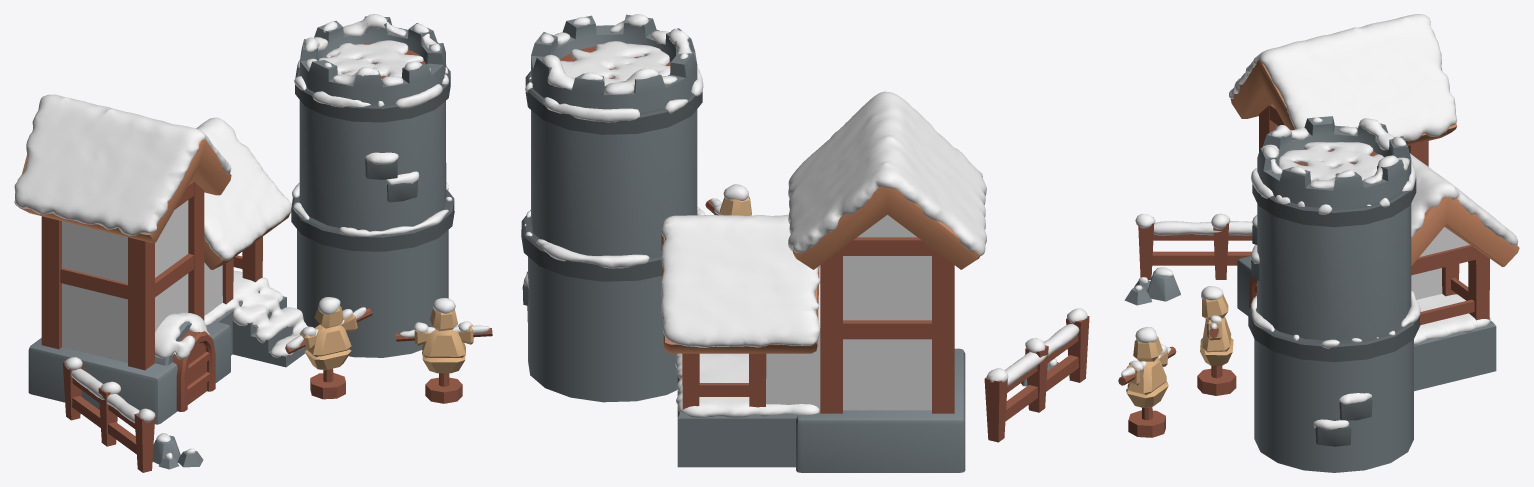
Rendered from barracks.fbx.
3 views of the same model, side by side, from view 1: azimuth 30°, elevation 25°; view 2: azimuth 150°, elevation 25°; view 3: azimuth 270°, elevation 25° (orthographic). The views are drawn at different scales.
Visible parts, largest first — view 1: barracks.026, SnowBall.012, barracks, SnowBall.013, barracks.006, SnowBall.026, barracks.002, SnowBall.011, barracks.005, barracks.001, SnowBall.010, barracks.032 (+24 smaller); view 2: barracks.026, SnowBall.013, SnowBall.012, barracks, barracks.006, barracks.009, barracks.005, SnowBall.011, SnowBall.026, barracks.001, barracks.004, barracks.010 (+14 smaller); view 3: barracks.026, SnowBall.012, barracks.009, SnowBall.011, barracks.014, SnowBall.010, barracks.032, SnowBall.013, barracks.005, SnowBall.026, barracks.010, barracks.011 (+21 smaller).
Part boxes in pixels (x1,y1,x2,y2): barracks.026: (291, 16, 454, 357); SnowBall.012: (14, 94, 231, 235); barracks: (62, 200, 188, 362); SnowBall.013: (196, 117, 291, 260); barracks.006: (28, 321, 230, 424); SnowBall.026: (204, 270, 307, 357); barracks.002: (128, 237, 154, 370); SnowBall.011: (292, 14, 452, 236); barracks.005: (14, 139, 231, 242); barracks.001: (41, 216, 61, 349); SnowBall.010: (319, 40, 423, 79); barracks.032: (295, 66, 450, 122); barracks.026: (521, 14, 697, 402); SnowBall.013: (661, 214, 820, 347); SnowBall.012: (788, 91, 986, 256); barracks: (843, 215, 931, 410); barracks.006: (796, 348, 965, 472); barracks.009: (677, 375, 797, 467); barracks.005: (793, 186, 980, 269); SnowBall.011: (524, 14, 705, 268); SnowBall.026: (675, 353, 819, 417); barracks.001: (932, 248, 954, 413); barracks.004: (820, 248, 842, 413); barracks.010: (766, 265, 820, 410); barracks.026: (1248, 116, 1420, 472); SnowBall.012: (1229, 14, 1456, 141); barracks.009: (1414, 321, 1496, 391); SnowBall.011: (1250, 117, 1420, 348); barracks.014: (1411, 196, 1519, 266); SnowBall.010: (1279, 142, 1383, 181); barracks.032: (1252, 178, 1416, 227); SnowBall.013: (1410, 153, 1518, 245); barracks.005: (1230, 60, 1456, 145); SnowBall.026: (1414, 294, 1490, 345); barracks.010: (1411, 227, 1469, 299); barracks.011: (1468, 249, 1489, 320).
Bounding box in the file's own units: 200 × 132 × 161.
